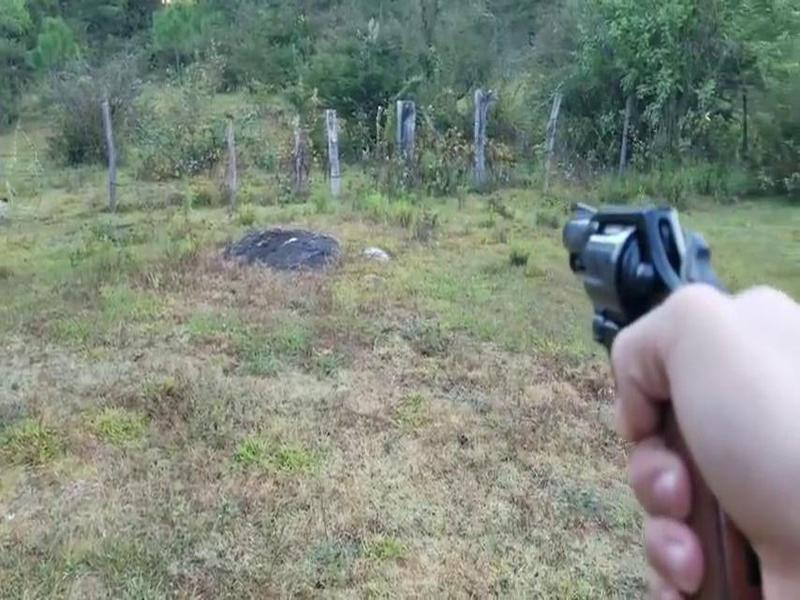Revolver: (557, 184, 767, 559)
